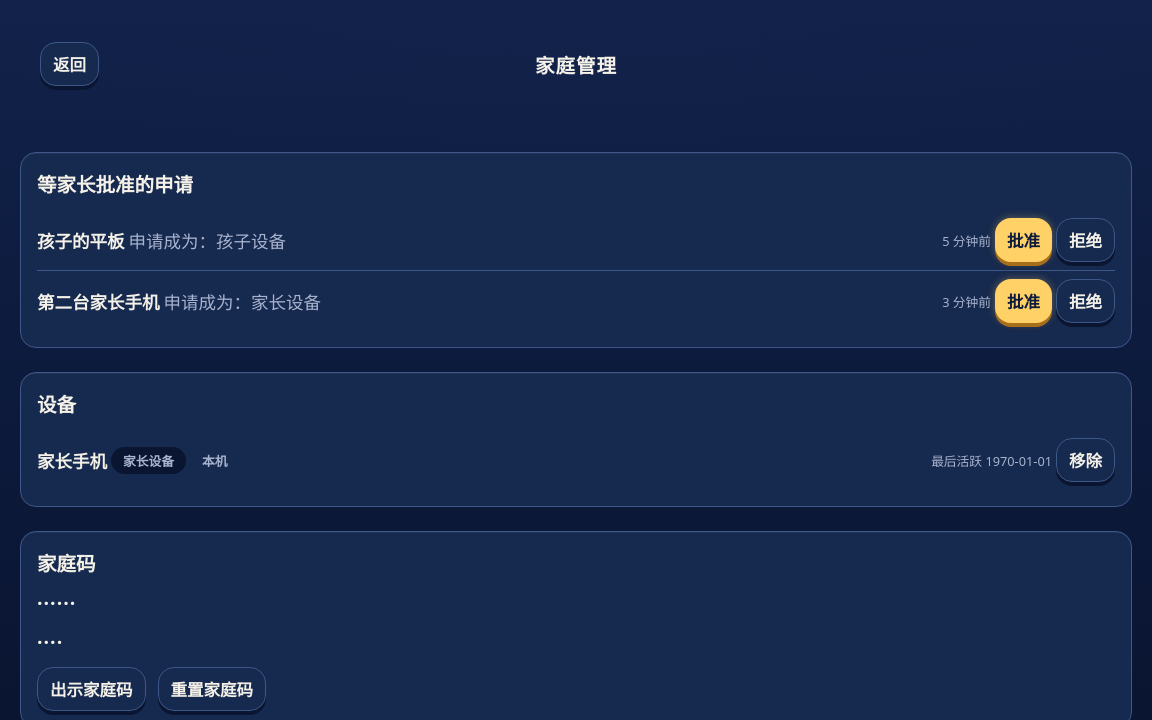
Test: #143 批准 / 拒绝流程（无二次确认） › 批准：点击即 POST approve（无确认弹窗）→ toast「已同意「XX」加入家庭」→ 申请行消失 + 名册刷新
The image size is (1152, 720).
Click the button "批准" next to "5 分钟前": (1024, 240) x1=995 y1=218 x2=1052 y2=262
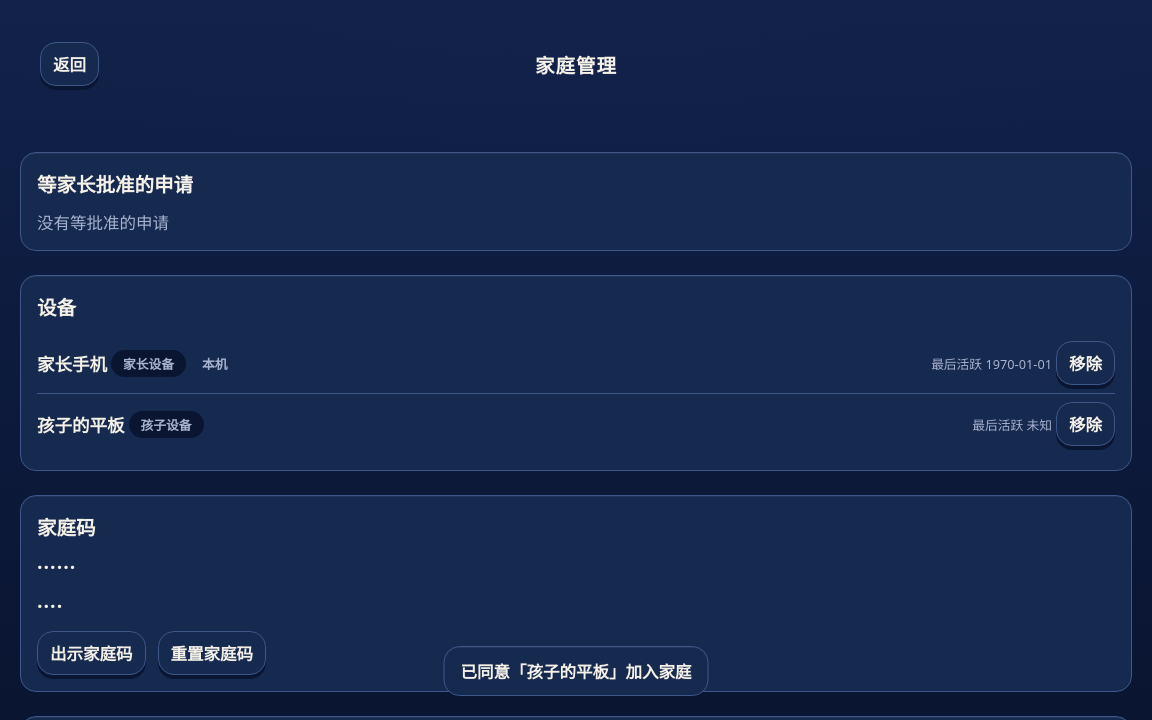
Check: the text "没有等批准的申请" is shown, box x1=37 y1=211 x2=169 y2=234
